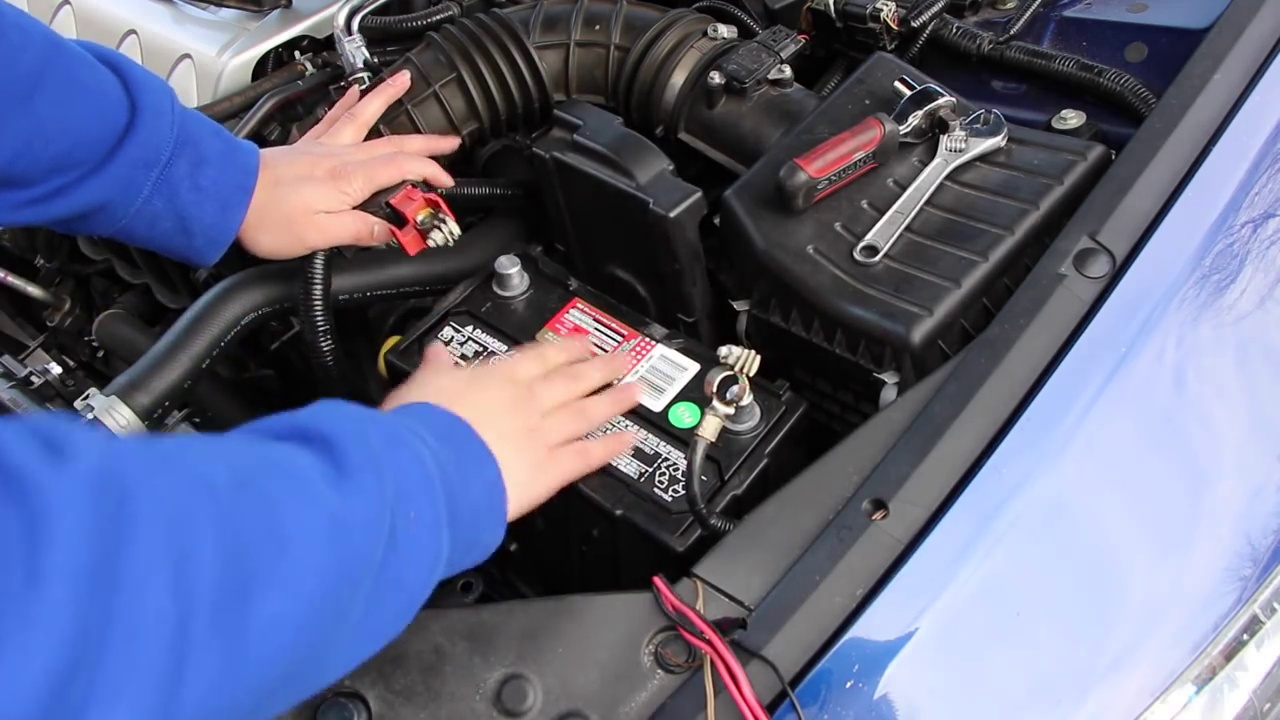battery: (391, 242, 786, 559)
neg_disconnected: (680, 340, 777, 447)
pos_disconnected: (374, 183, 539, 314)
pos_touched: (305, 120, 529, 305)
